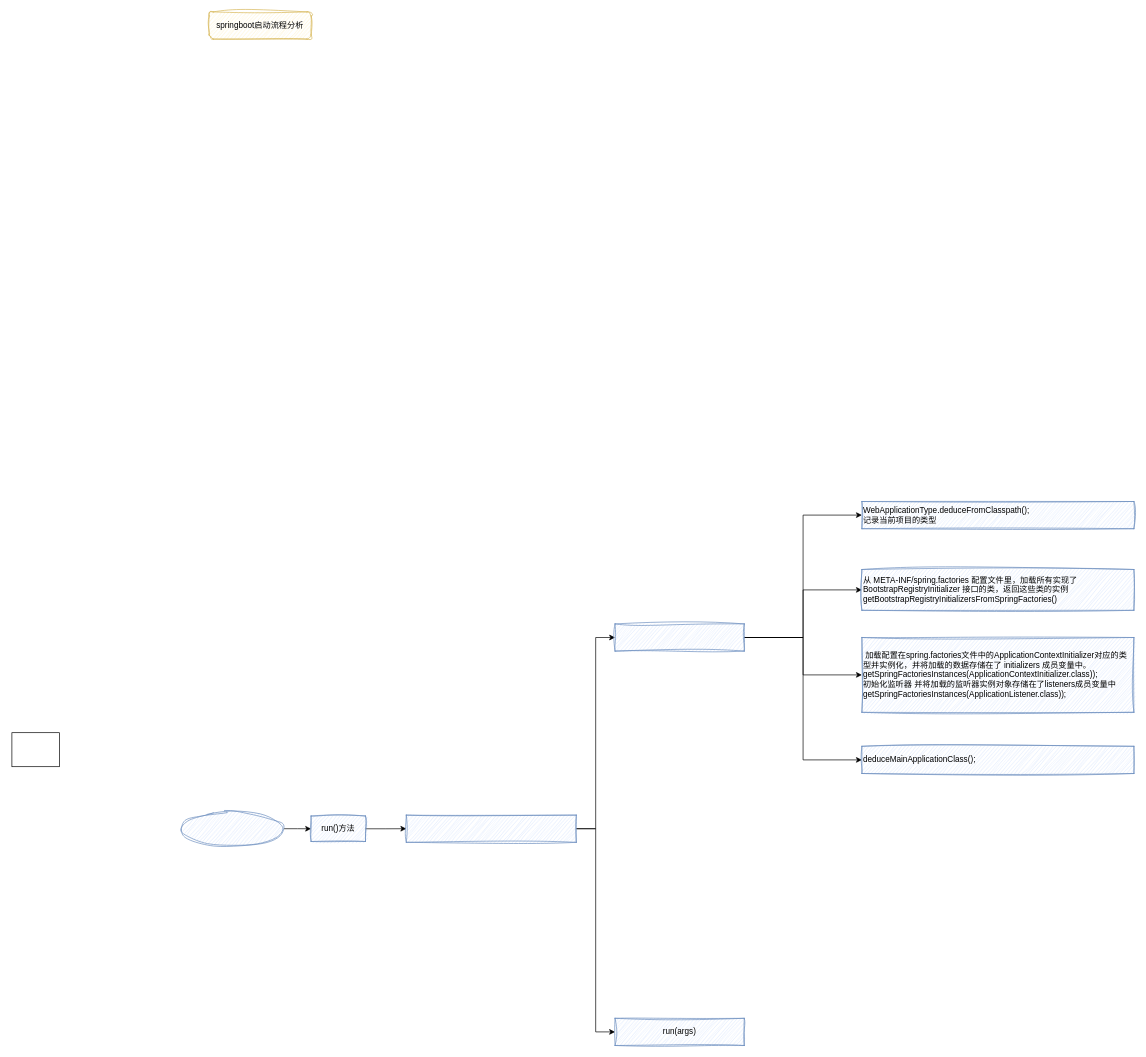
Some shapes in this 1146 by 1057 pixel diagram are drawn without their labels. Here are the shapes that lost their labels. From the top down, the centre of each, then its label:
At pixel 679 637: "SpringApplication(primarySources)".
At pixel 232 828: "SpringApplication.run()".
At pixel 491 828: "SpringApplication(primarySources).run(args)".
